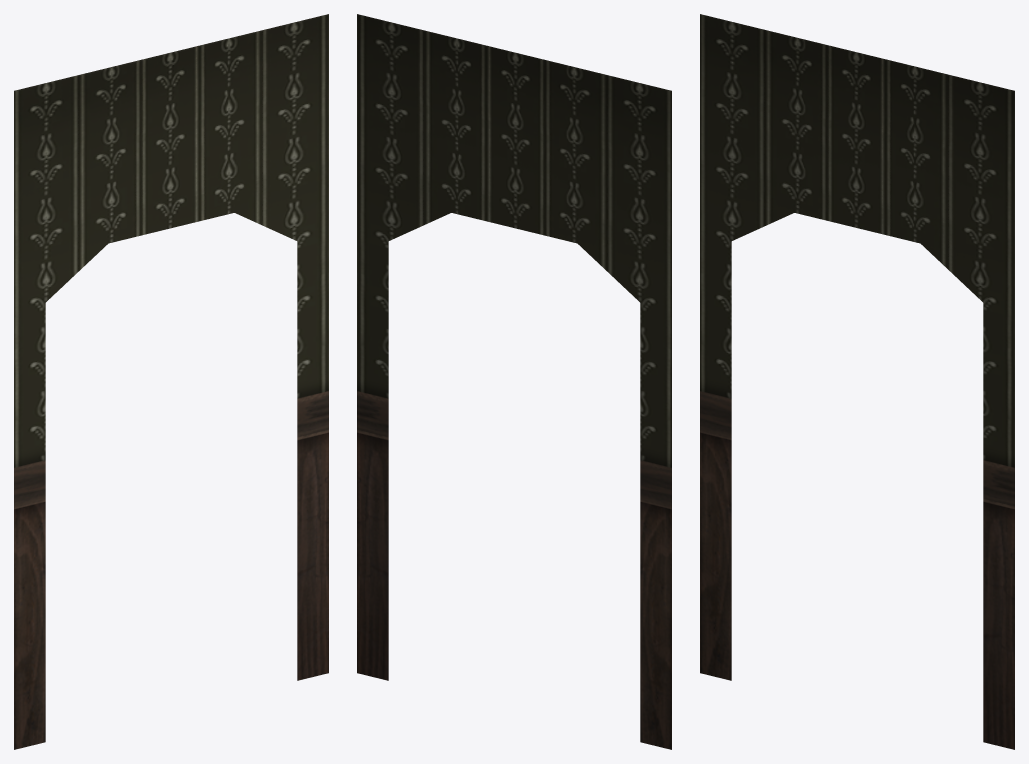
File: Wall.WP_3x1.5_Archway.Small.fbx
3 views of the same model, side by side, from view 1: azimuth 30°, elevation 25°; view 2: azimuth 150°, elevation 25°; view 3: azimuth 330°, elevation 25° (orthographic).
Visible parts, largest first — view 1: Wall.WP_3x1.5_Archway.Small; view 2: Wall.WP_3x1.5_Archway.Small; view 3: Wall.WP_3x1.5_Archway.Small.
Boxes of the visible parts, box(x1,y1,x2,y2) form: Wall.WP_3x1.5_Archway.Small: box(14, 14, 328, 749); Wall.WP_3x1.5_Archway.Small: box(357, 14, 671, 749); Wall.WP_3x1.5_Archway.Small: box(700, 14, 1014, 749).
Size of the model in its own units: 150 by 300 by 4.01e-05.
